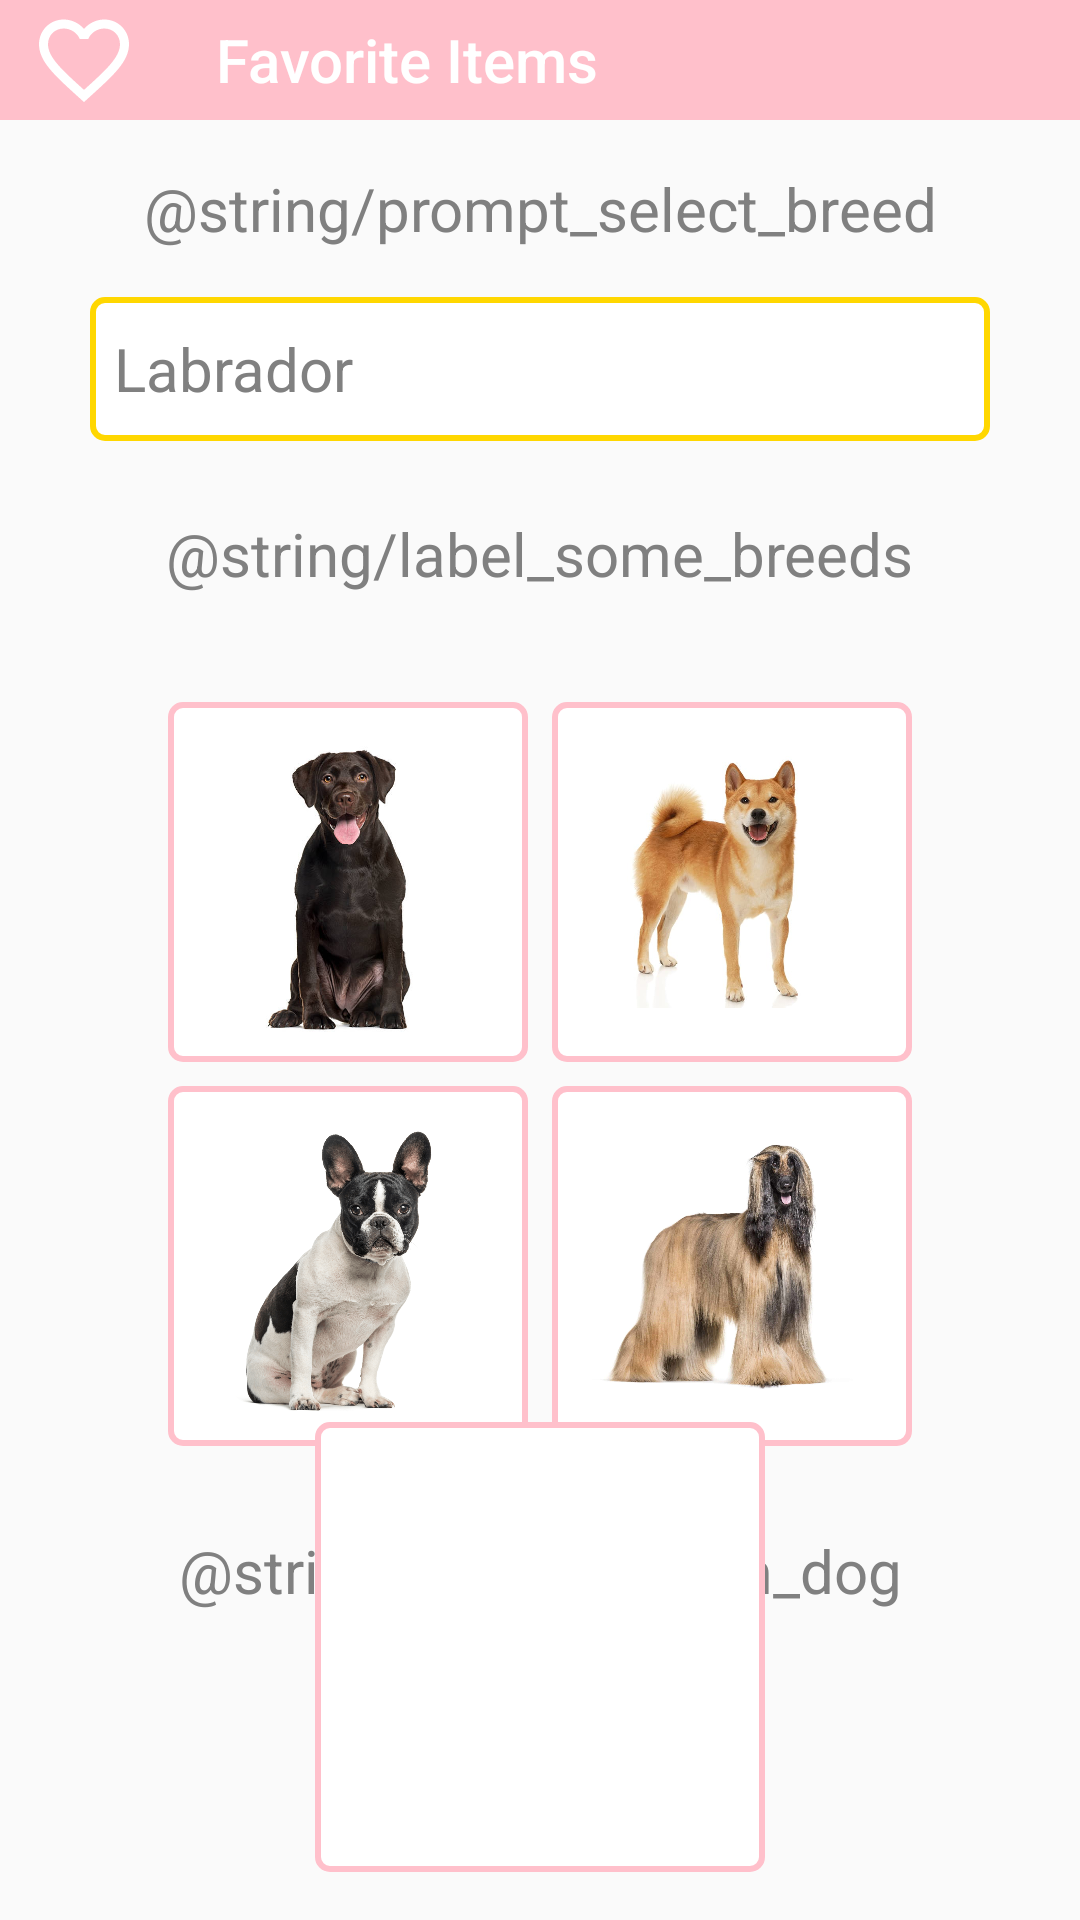

Icons on this 1080px x 1920px Android screen, each with the point to tap as (x,y):
akita: (732,882)
bulldog: (338,1271)
hound: (717,1267)
labrador: (348,882)
